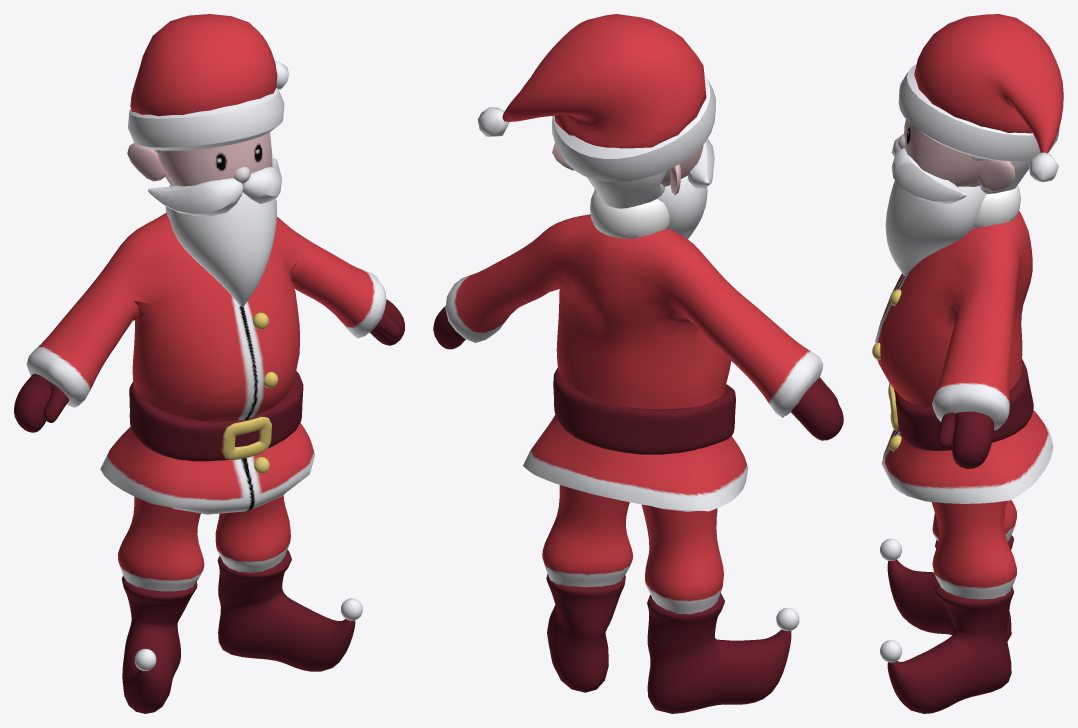
Rendered from santa.glb.
The picture shows the model from 3 angles, left to right: view 1: azimuth 30°, elevation 25°; view 2: azimuth 150°, elevation 25°; view 3: azimuth 270°, elevation 25°; orthographic projection. The views are drawn at different scales.
Visible parts, largest first — view 1: Object_3; view 2: Object_3; view 3: Object_3.
Part boxes in pixels (x1=…): Object_3: x1=14, y1=14, x2=404, y2=713; Object_3: x1=433, y1=14, x2=843, y2=713; Object_3: x1=872, y1=14, x2=1063, y2=713.
Bounding box in the file's own units: 114 × 182 × 48.63.
Materials: 1 (1 with a texture image).
